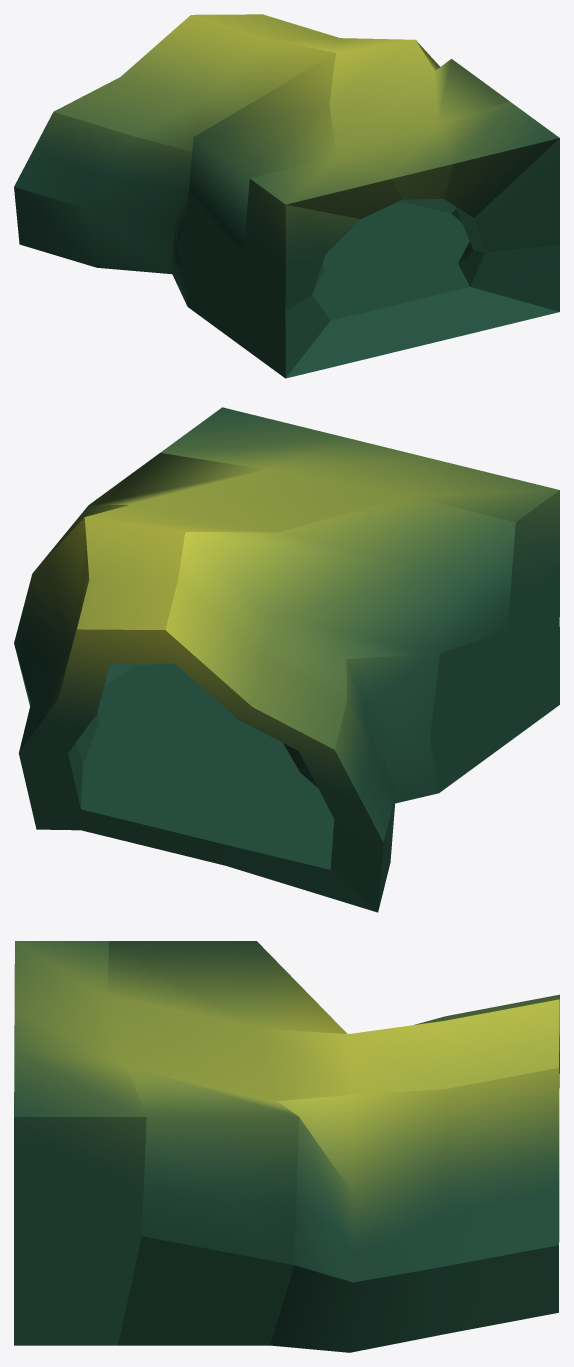
Rendered from MOD_Tunnel.fbx.
3 views of the same model, one above another, from view 1: azimuth 30°, elevation 25°; view 2: azimuth 150°, elevation 25°; view 3: azimuth 270°, elevation 25° (orthographic). The views are drawn at different scales.
Visible parts, largest first — view 1: MOD_Tunnel; view 2: MOD_Tunnel; view 3: MOD_Tunnel.
Boxes of the visible parts, bbox=[...] form: MOD_Tunnel: bbox=[14, 14, 559, 378]; MOD_Tunnel: bbox=[14, 407, 559, 912]; MOD_Tunnel: bbox=[14, 941, 559, 1352].
Size of the model in its own units: 7.07 by 3.43 by 6.72.
